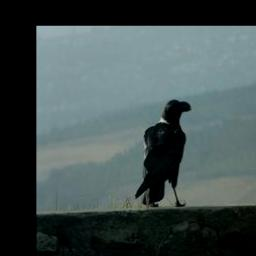Crow: (134, 97, 193, 208)
